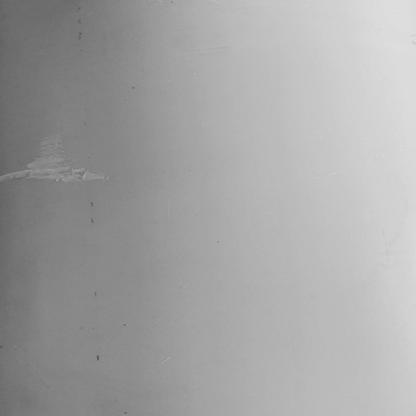sunshang: (1, 133, 116, 183)
